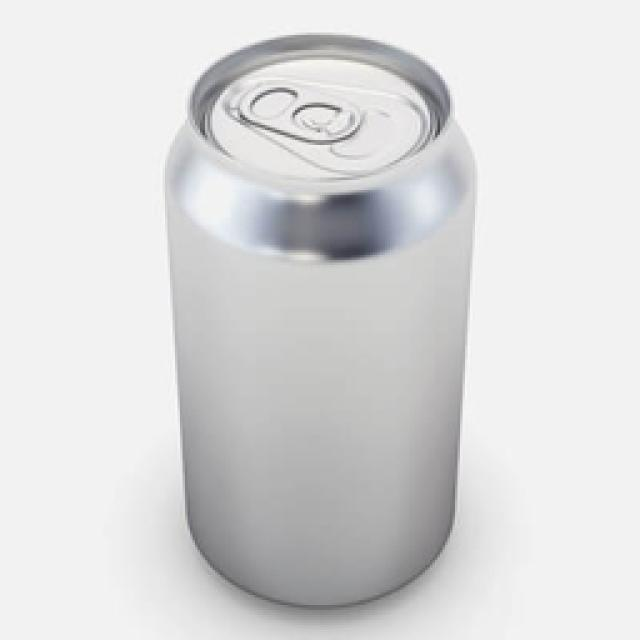aluminum_soda_cans: (172, 33, 476, 612)
